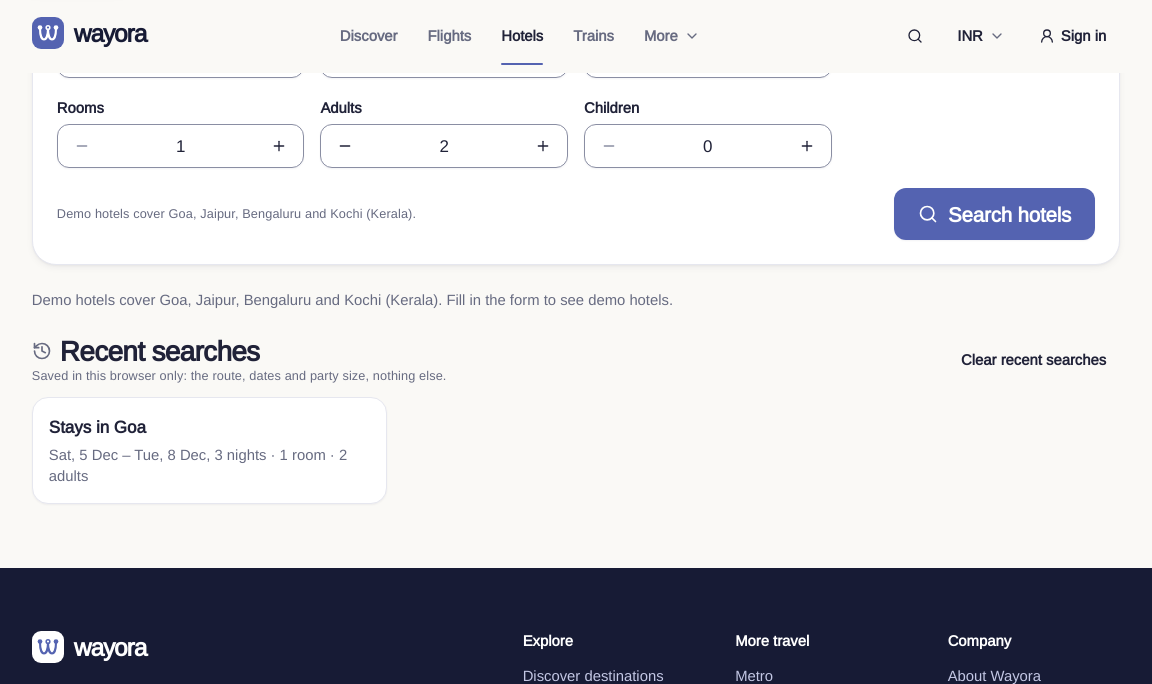
Test: recent searches › clears the category’s recent searches
(page scrolled)
Click the button "Clear recent searches".
click(1034, 360)  # box [947,342,1120,378]
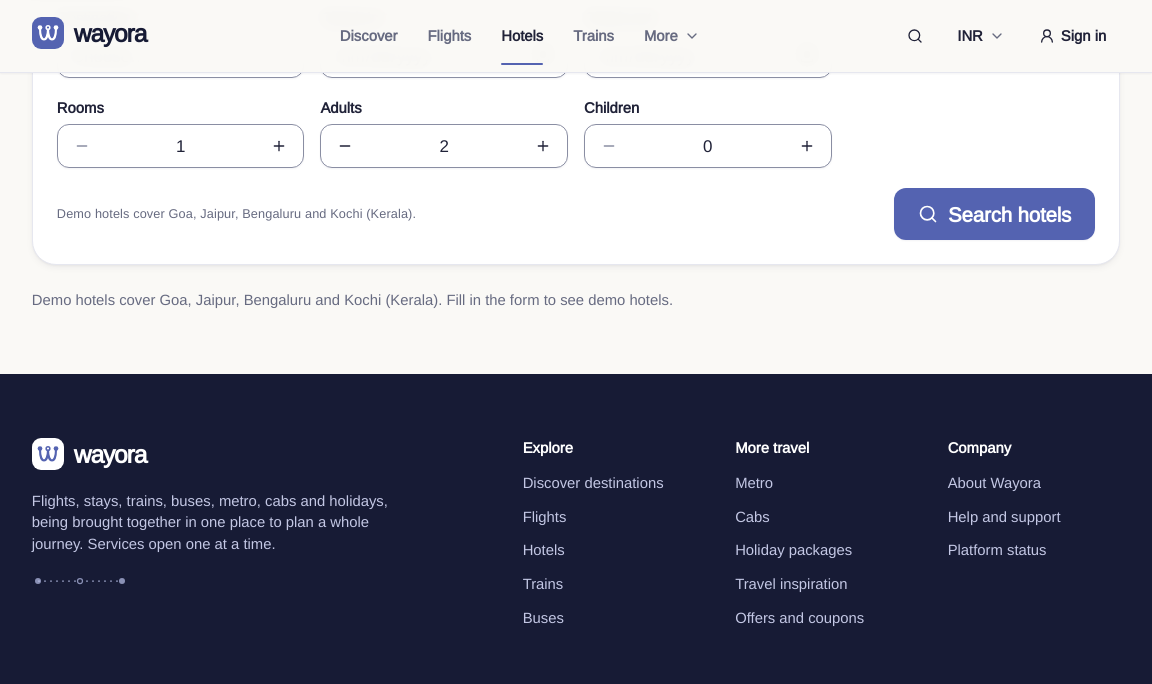
Check: the heading "Recent searches" is gone
